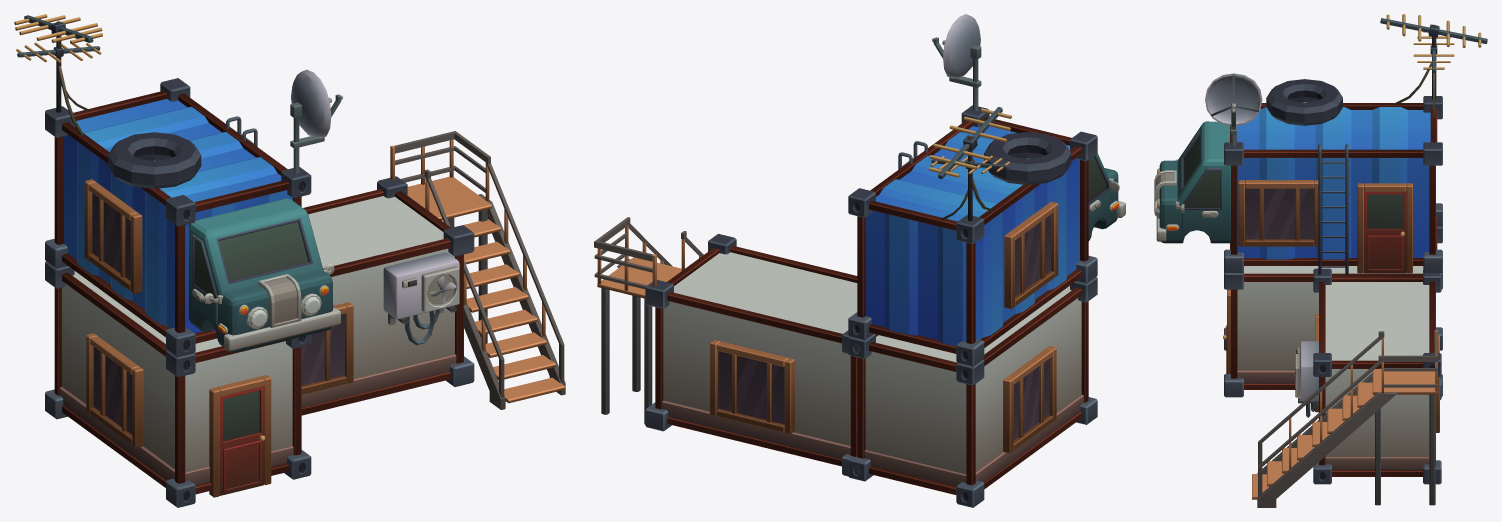
The model's file is sp_prebuild_house_06.fbx.
3 views of the same model, side by side, from view 1: azimuth 30°, elevation 25°; view 2: azimuth 150°, elevation 25°; view 3: azimuth 270°, elevation 25° (orthographic). The views are drawn at different scales.
Visible parts, largest first — view 1: finb_house_06; view 2: finb_house_06; view 3: finb_house_06.
Part boxes in pixels (left/top/right/bottom): finb_house_06: left=14, top=14, right=565, bottom=507; finb_house_06: left=594, top=14, right=1125, bottom=507; finb_house_06: left=1154, top=14, right=1487, bottom=507.
Size of the model in its own units: 954 by 826 by 759.
